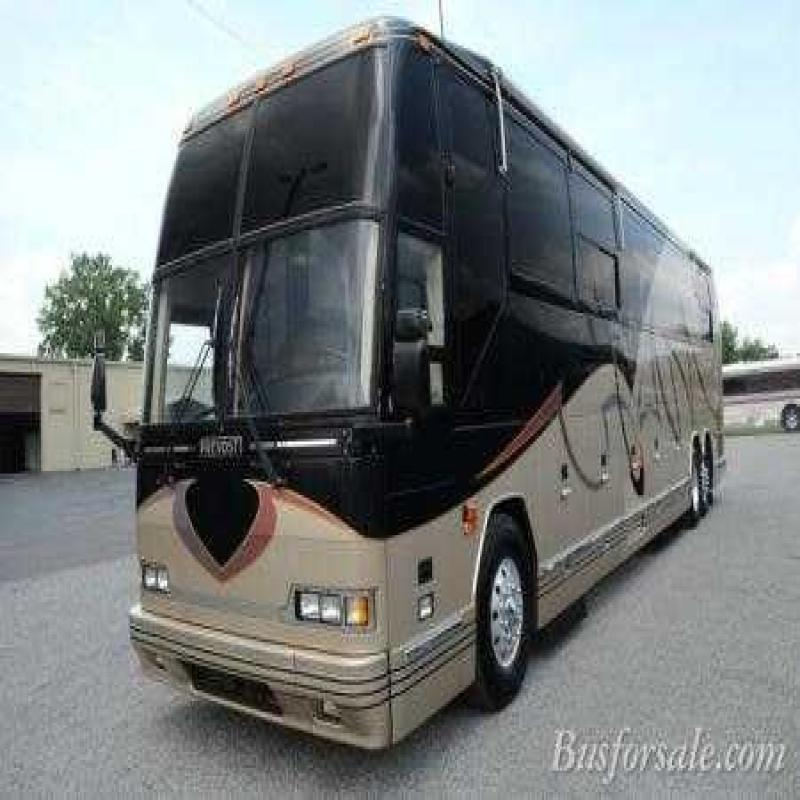bus: (101, 36, 753, 746)
